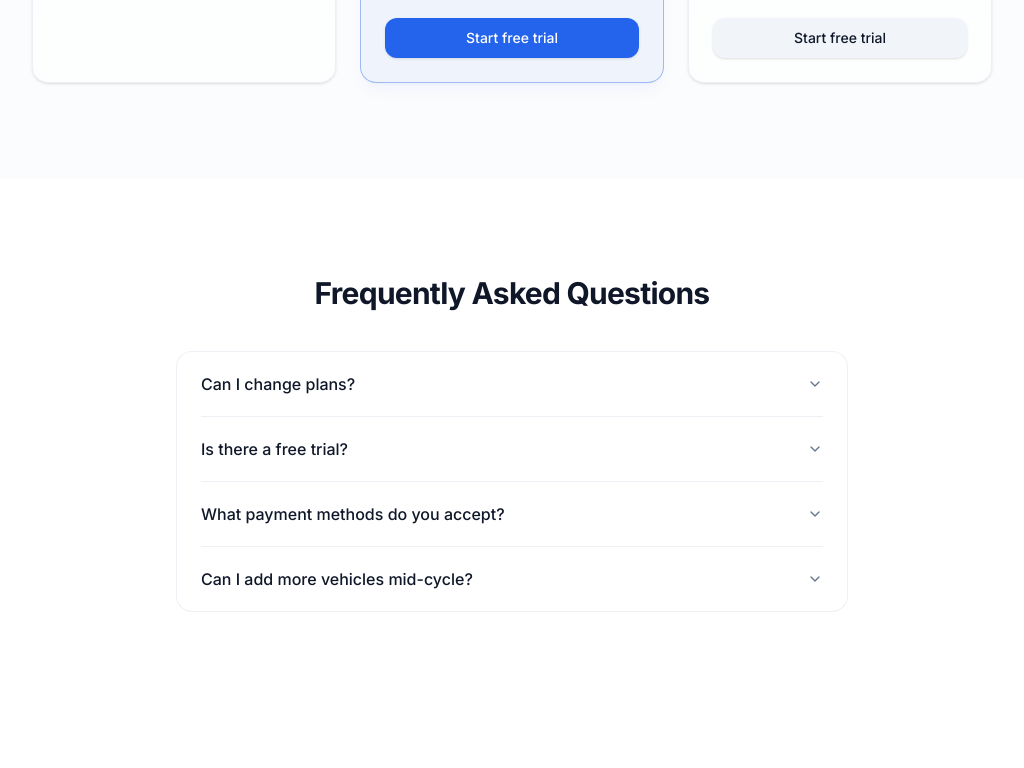
Test case: PricingPage › renders FAQ section with togglable items
(page scrolled)
Expected: the heading "Frequently Asked Questions" is shown, [315, 275, 709, 311]
Expected: the text "Can I change plans?" is shown, [201, 372, 355, 396]
Click to open
Click the button "Can I change plans?".
click(278, 384)  # box [201, 352, 823, 416]
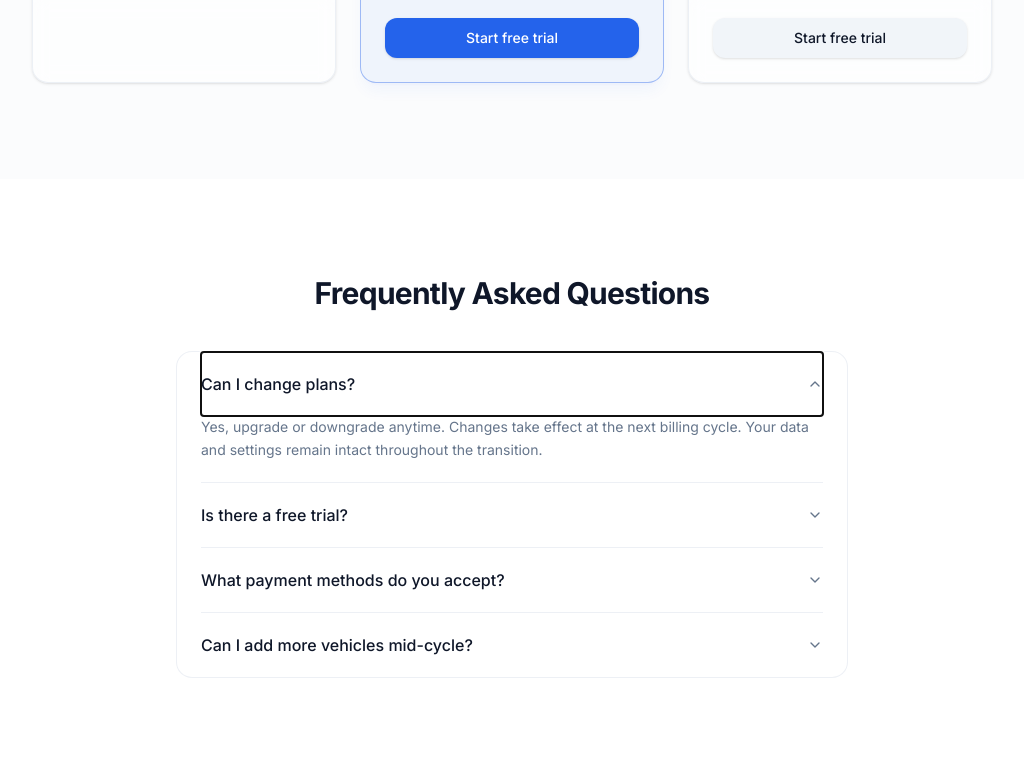
Expected: the text "upgrade or downgrade anytime" is shown, [201, 418, 809, 458]
